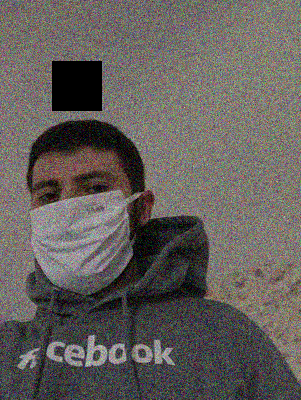with_mask: (31, 170, 135, 296)
